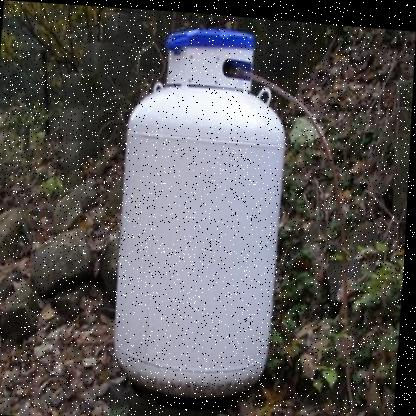gas-tank: (92, 6, 323, 408)
